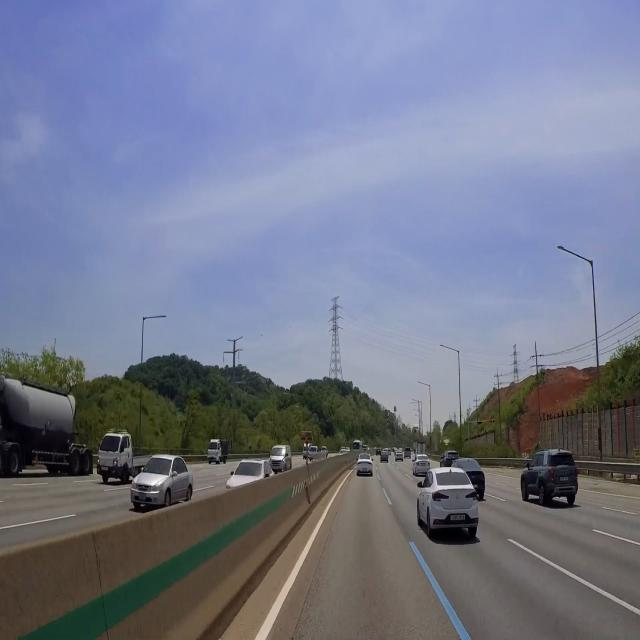car: (447, 512, 470, 526), (559, 474, 570, 487), (138, 490, 147, 501), (361, 466, 370, 475), (99, 465, 111, 471), (420, 460, 426, 470)
